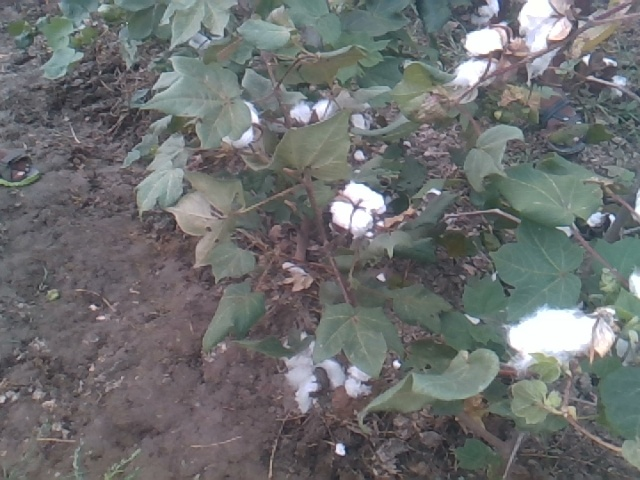cotton: (503, 306, 601, 364), (279, 331, 347, 412), (327, 179, 387, 240), (454, 27, 513, 89), (516, 1, 568, 53), (581, 55, 627, 98), (220, 100, 259, 148), (287, 98, 334, 128), (345, 364, 373, 398), (415, 187, 443, 218), (626, 269, 640, 304), (281, 261, 308, 278), (588, 210, 608, 227), (463, 311, 483, 327), (352, 148, 367, 161), (335, 441, 346, 456), (375, 272, 387, 284), (392, 358, 403, 370)
